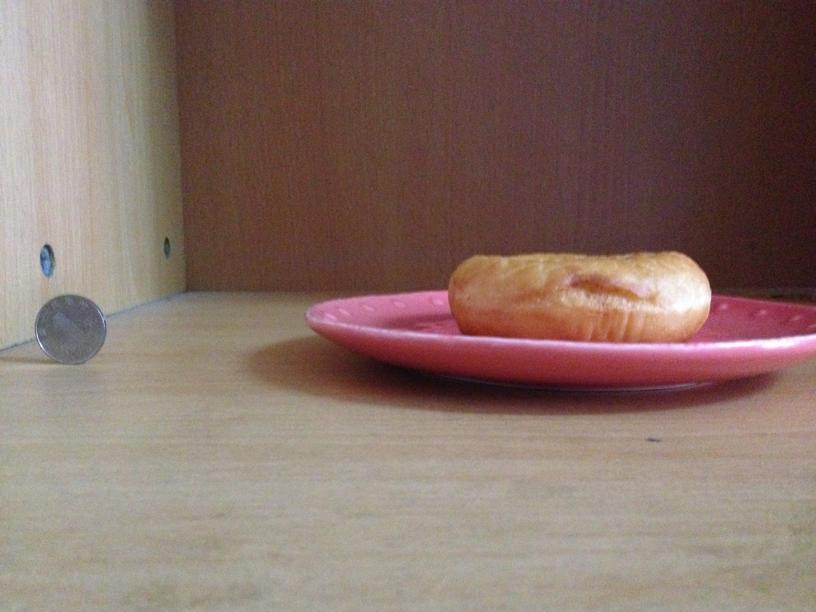coin: (32, 295, 108, 362)
doughnut: (449, 248, 711, 341)
